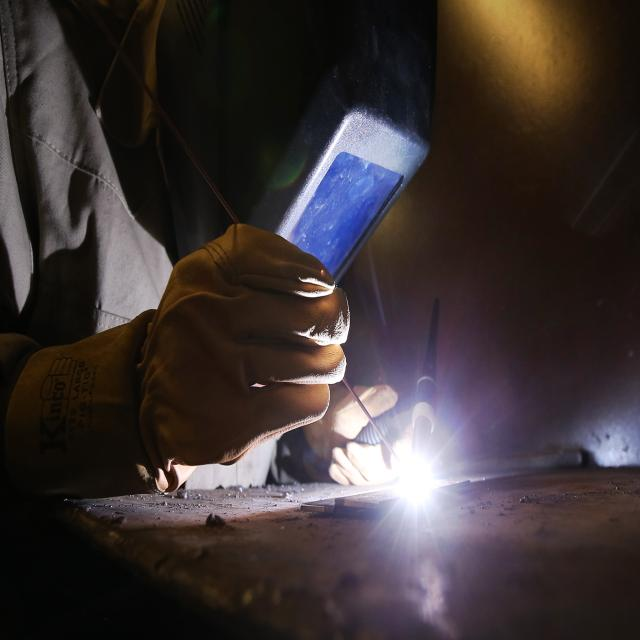welding: (397, 452, 436, 508)
